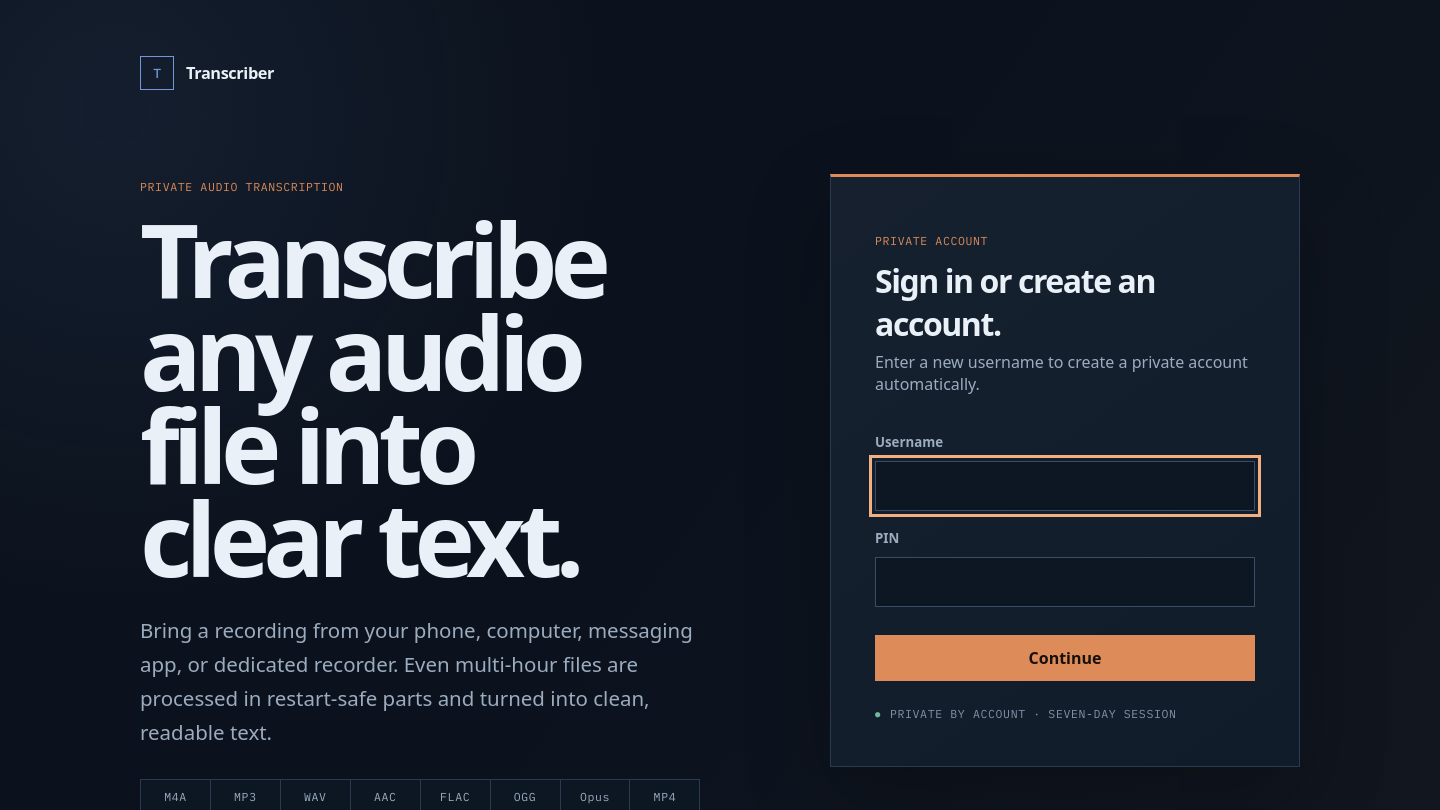
Test: LoginPage › shows the exact incorrect_pin account error
This screenshot has width=1440, height=810.
Type "existing-user" into the field labelled "Username". click: (1065, 486)
box: [875,461,1255,511]
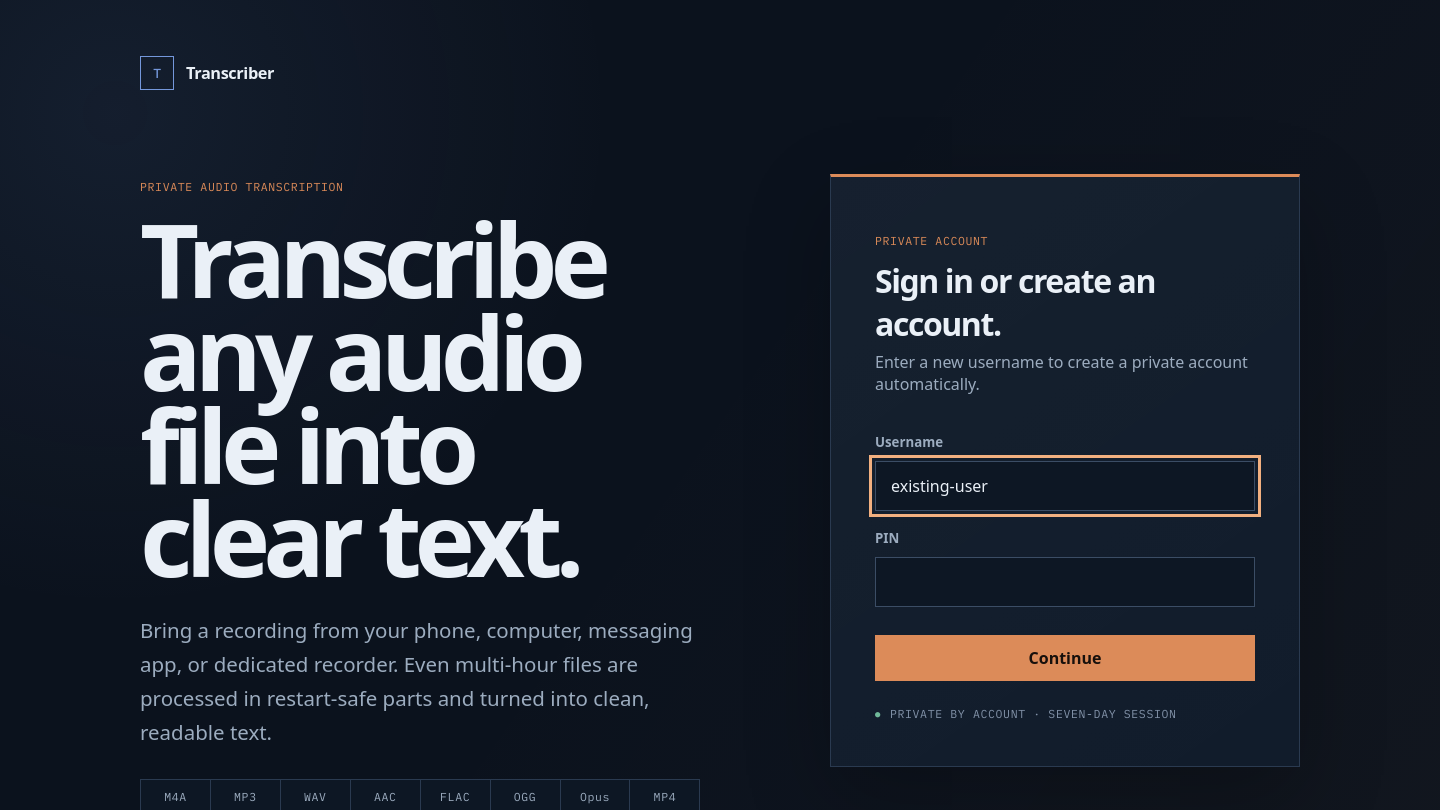
Type "123456" into the password field labelled "PIN". click: (1065, 582)
box: [875,557,1255,607]
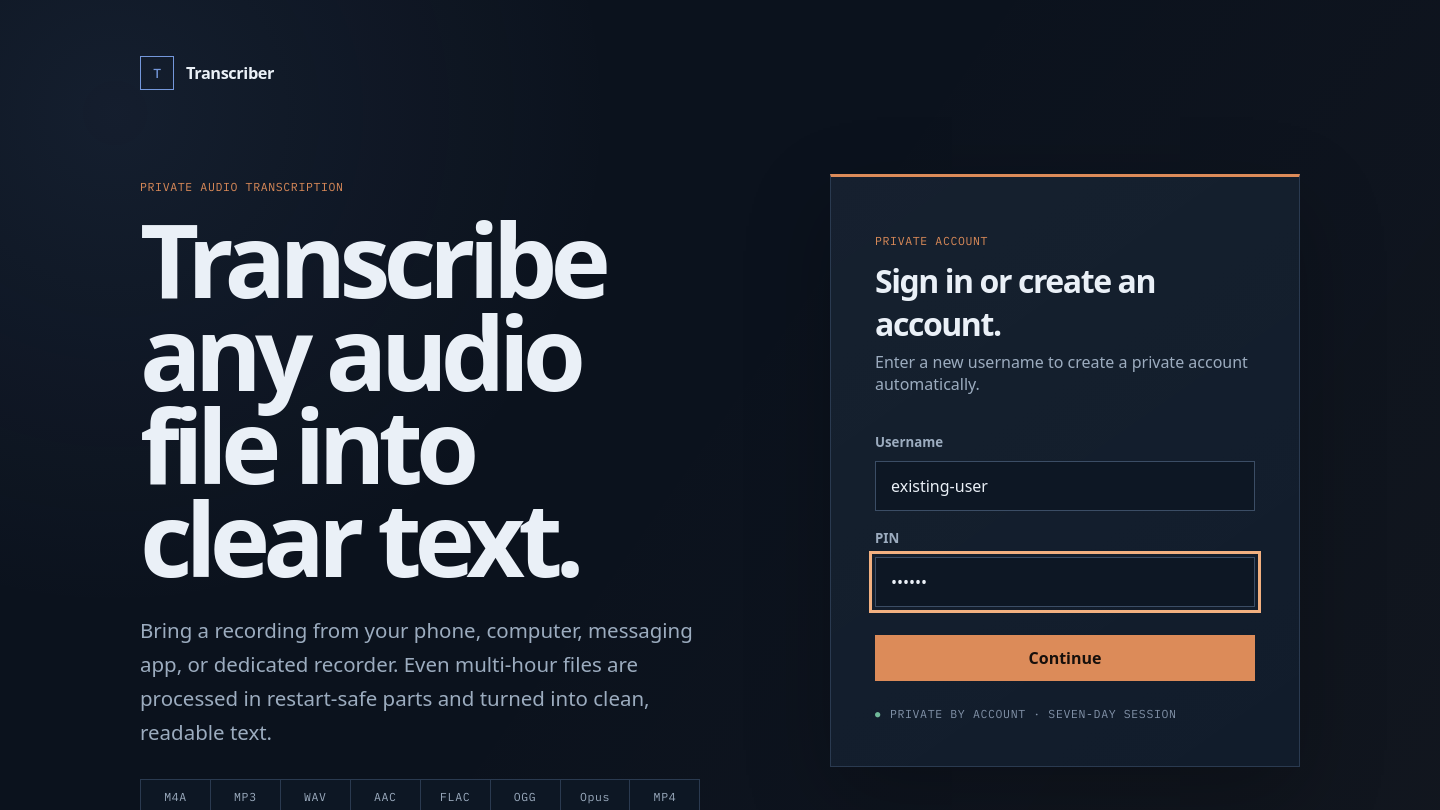
Click the button "Continue". click: (1065, 658)
box: [875,635,1255,681]
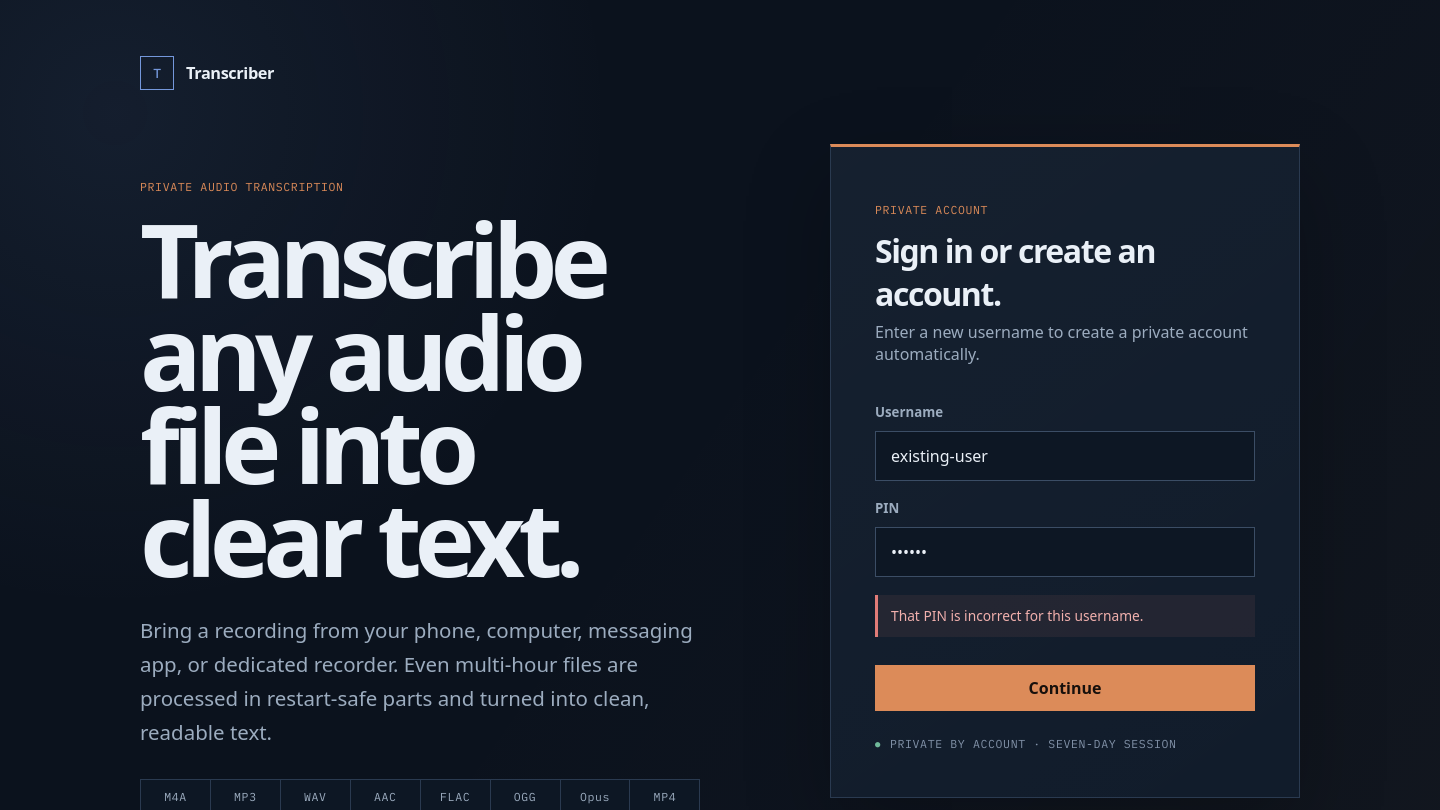
Result: the message reads "That PIN is incorrect for this username." at [891,606,1144,625]
